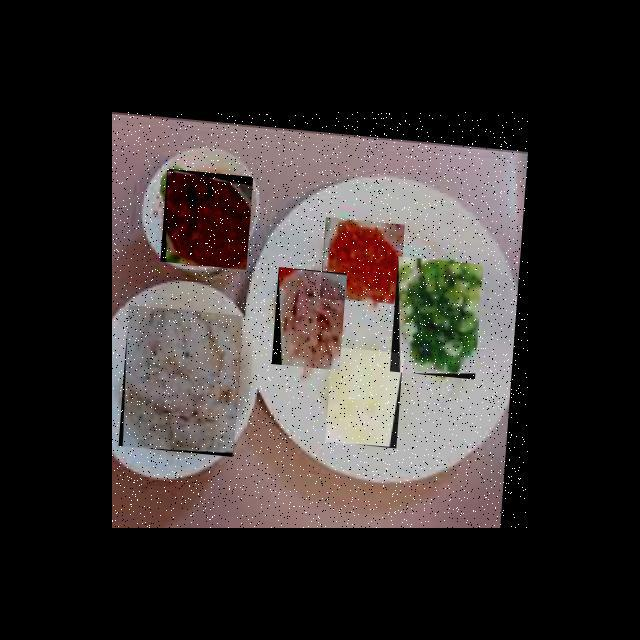green_onion: (394, 250, 486, 374)
